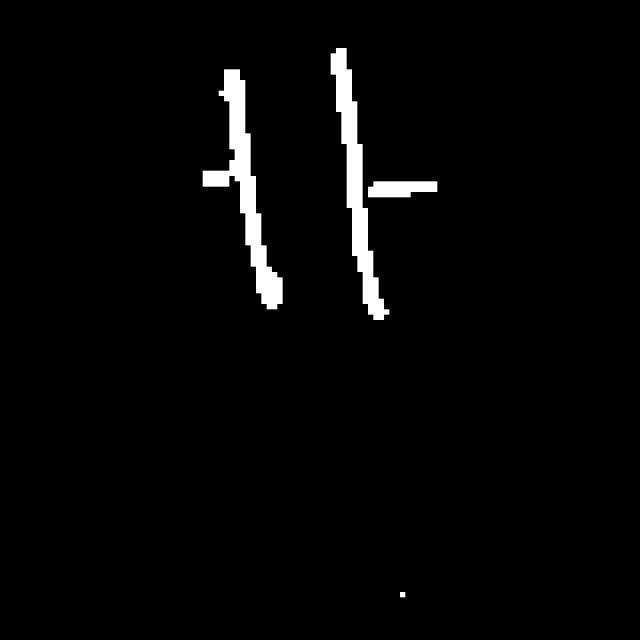capacitor: (218, 28, 393, 331)
